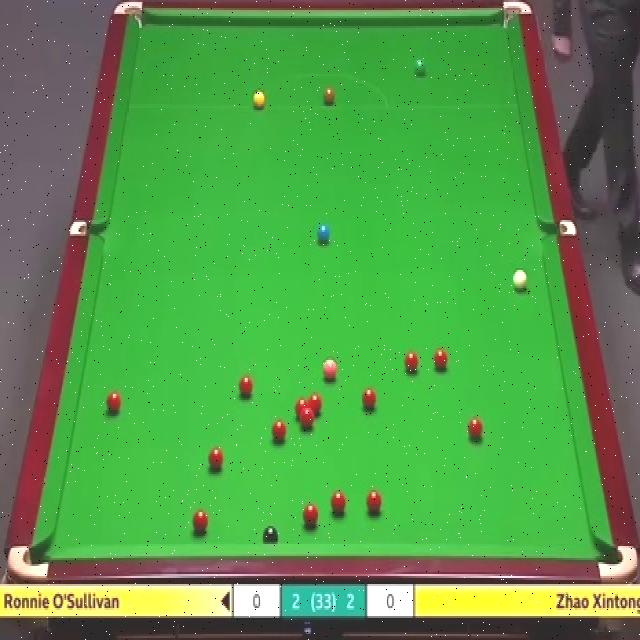black-ball: (262, 526, 279, 545)
blue-ball: (316, 220, 330, 245)
brown-ball: (323, 88, 335, 106)
green-ball: (412, 58, 427, 78)
pink-ball: (323, 354, 338, 382)
red-ball: (403, 349, 420, 378), (106, 389, 123, 416), (207, 446, 223, 473), (192, 509, 209, 534), (467, 418, 484, 443), (366, 489, 382, 515), (331, 491, 346, 516), (433, 349, 448, 374), (361, 387, 376, 412), (238, 376, 253, 400), (304, 503, 318, 528), (272, 419, 286, 443), (308, 394, 322, 418), (301, 410, 314, 430), (295, 398, 308, 418)
white-ball: (512, 266, 530, 294)
yellow-ball: (252, 89, 265, 109)
